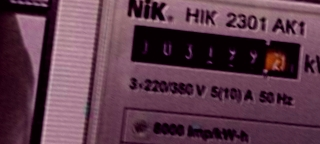0: (159, 40, 172, 60), (136, 38, 147, 57)
1: (203, 43, 214, 62)
3: (181, 43, 193, 64)
6: (268, 59, 280, 74)
9: (224, 44, 236, 65), (246, 49, 258, 68)
screen: (120, 15, 308, 92)
